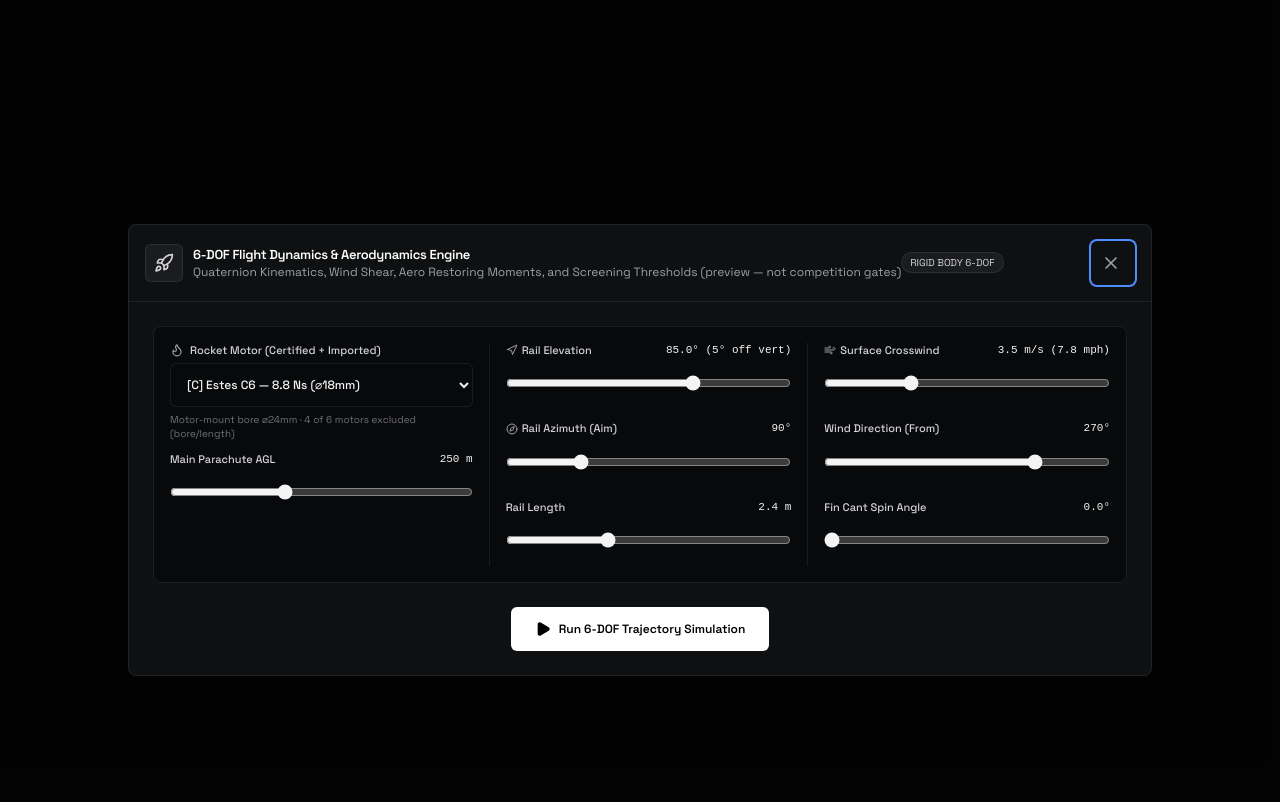
Test case: FlightSimulationTab motor coherence (Round-19) › lists imported custom motors and flies the selected one
Select "[H] Test H128 — 180 Ns (⌀18mm)" in the dropdown named "rocket motor" at (321, 385), box [170,363,473,407]
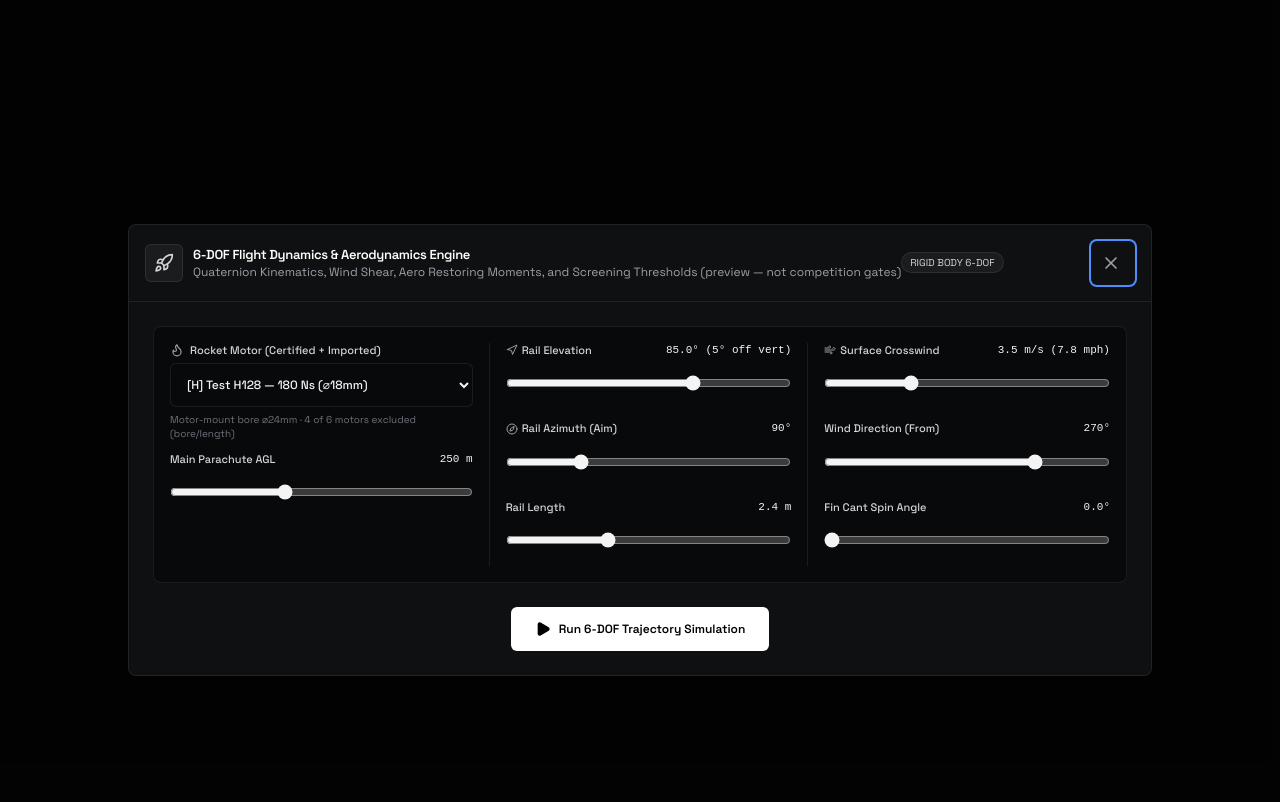
Click the button "Run 6-DOF Trajectory Simulation" at (640, 630), box [511,608,769,652]
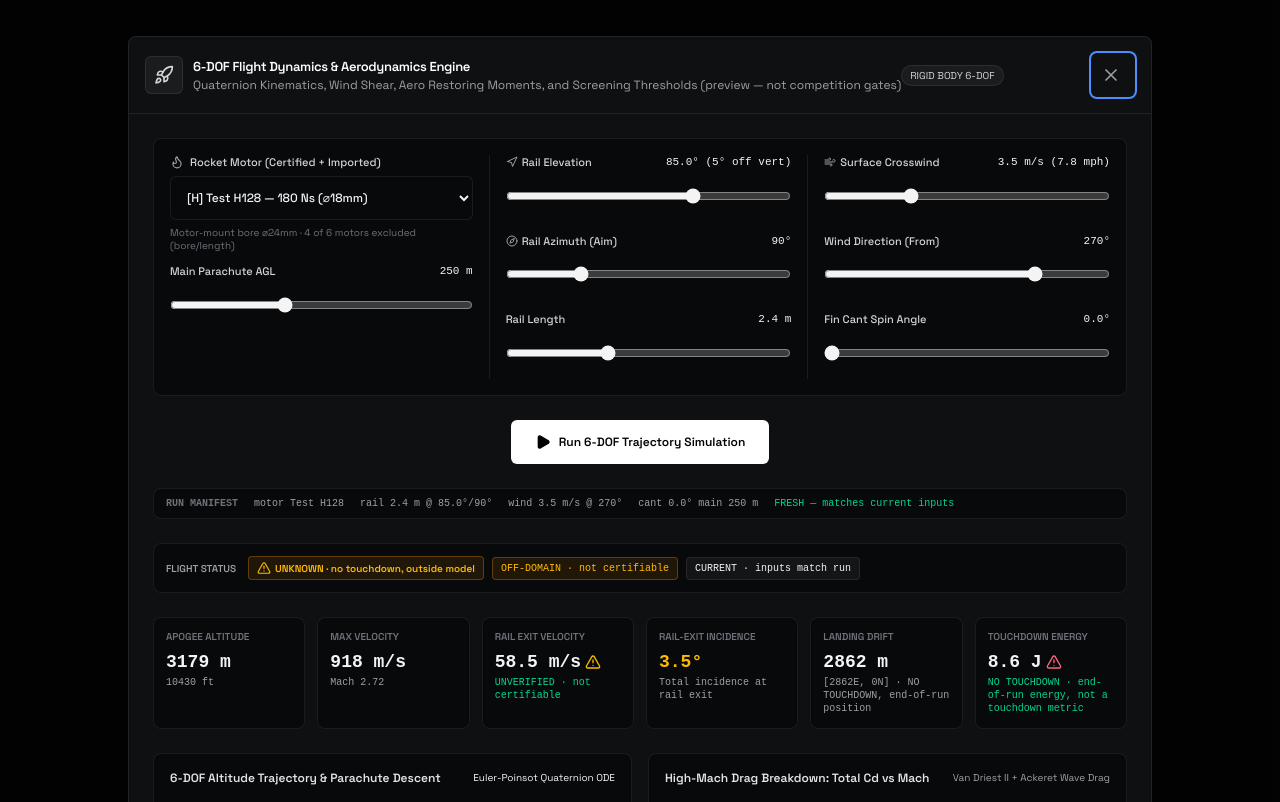
Expected: the text "Flight Status" is shown, [166,562,236,575]
Expected: the text "CURRENT · inputs match run" is shown, [686,557,860,580]
